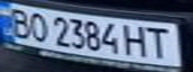2: (48, 14, 72, 47)
3: (66, 16, 84, 51)
4: (100, 20, 124, 55)
8: (81, 18, 103, 53)
B: (3, 4, 33, 38)
H: (121, 23, 151, 57)
O: (24, 10, 51, 43)
T: (142, 25, 178, 60)
